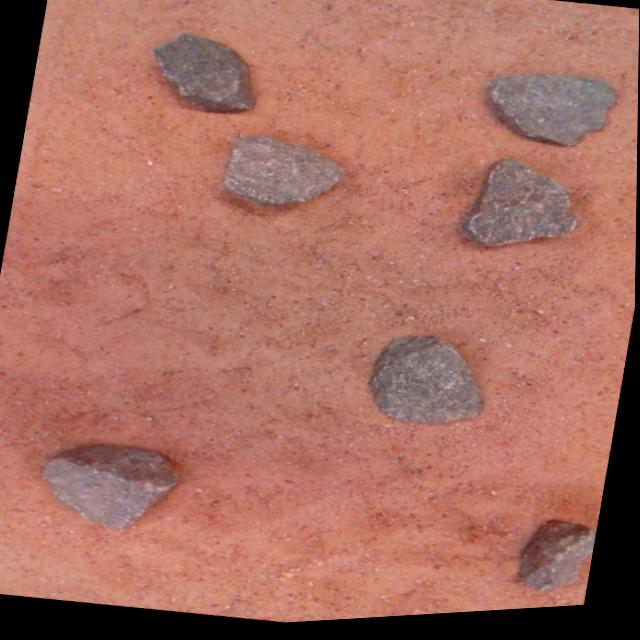rock: (43, 447, 179, 531), (371, 342, 484, 430), (464, 166, 578, 253), (490, 82, 616, 154), (223, 140, 345, 208), (155, 36, 255, 116), (520, 527, 598, 598)
